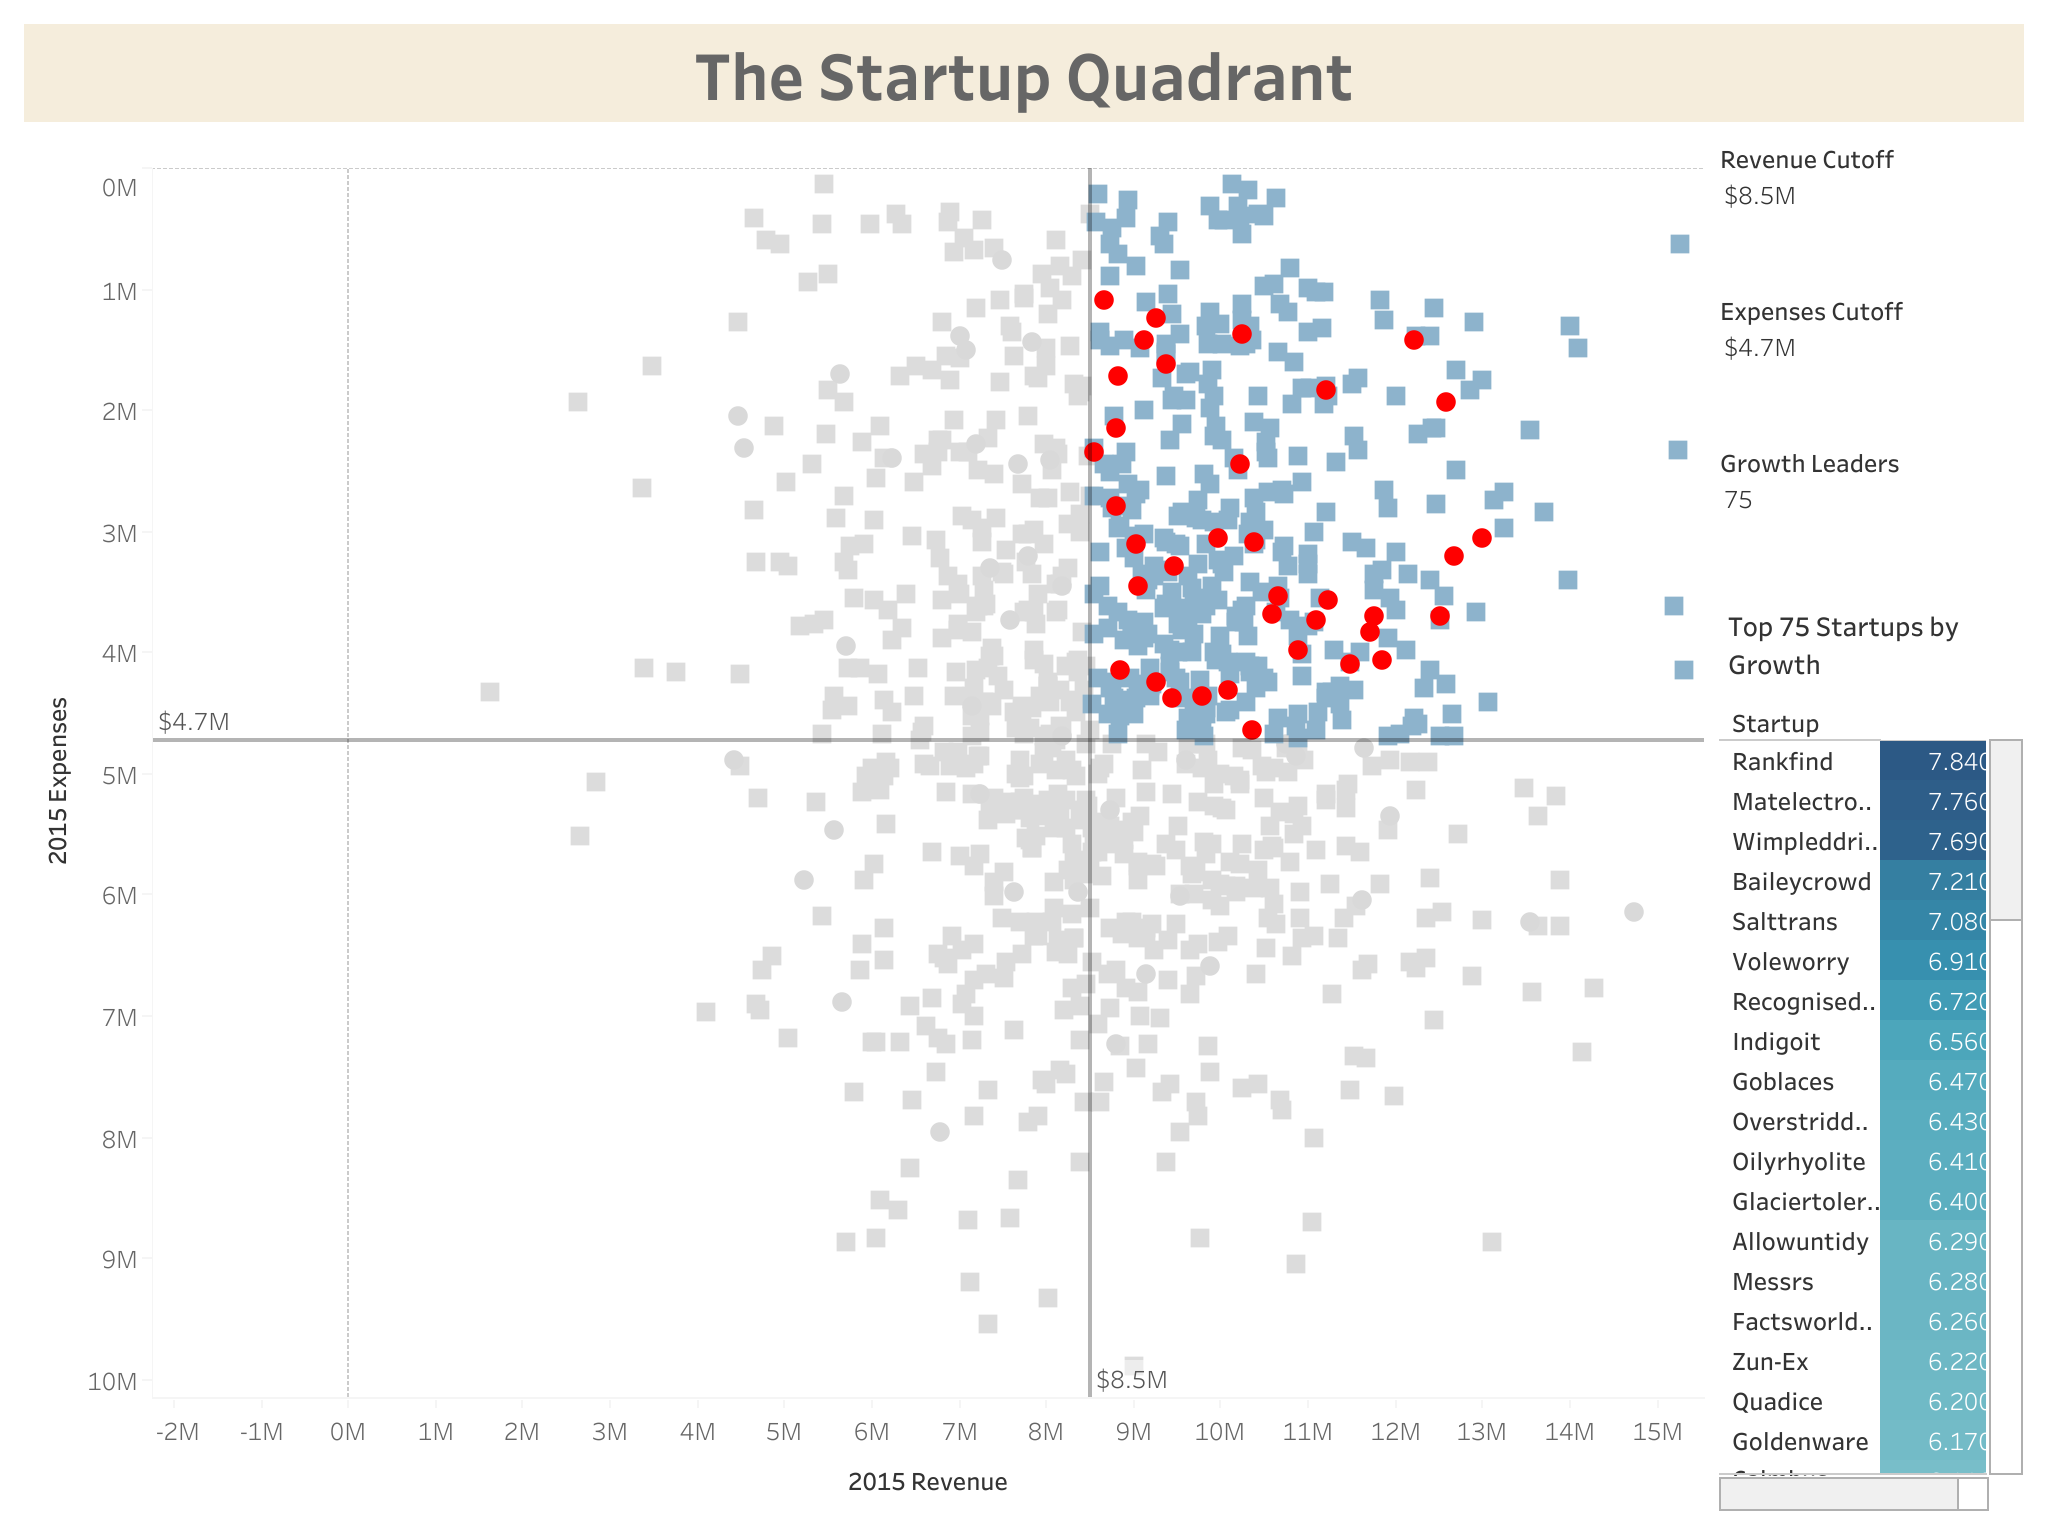

The page's visual inventory and layout, read from the dashboard file:
{"tool":"tableau","page":{"name":"The Startup Quadrant","canvas":[1024,768],"ordinal":0},"visuals":[{"type":"text","box":[8,8,1008,57]},{"type":"worksheet","title":"Revenue & Expenses","mark":"Automatic","rows":["2015 Expenses"],"cols":["2015 Revenue"],"box":[8,65,848,695]},{"type":"parameter","param":"[Parameters].[Parameter 1]","box":[856,65,160,79]},{"type":"parameter","param":"[Parameters].[Parameter 2]","box":[856,144,160,79]},{"type":"parameter","param":"[Parameters].[Parameter 3]","box":[856,223,160,79]},{"type":"worksheet","title":"Growth","mark":"Square","rows":["Name (Overview)"],"box":[856,302,160,458]}]}

Visuals, with their boxes in screenshot pixels (x1, y1, x2, y2), scaled from the page's 1024x768 canvas onto the 2046x1534 screenshot:
text: 16, 16, 2030, 130
"Revenue & Expenses" worksheet: 16, 130, 1710, 1518
parameter: 1710, 130, 2030, 288
parameter: 1710, 288, 2030, 445
parameter: 1710, 445, 2030, 603
"Growth" worksheet (Square marks): 1710, 603, 2030, 1518
